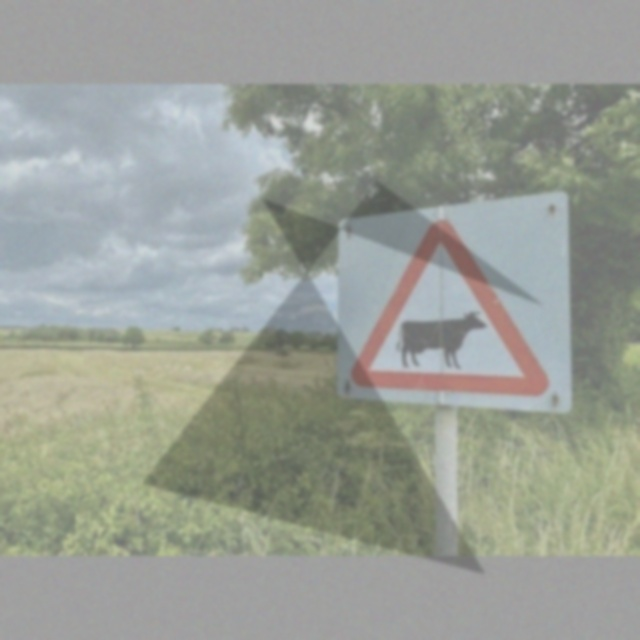Cattle: (345, 218, 555, 408)
